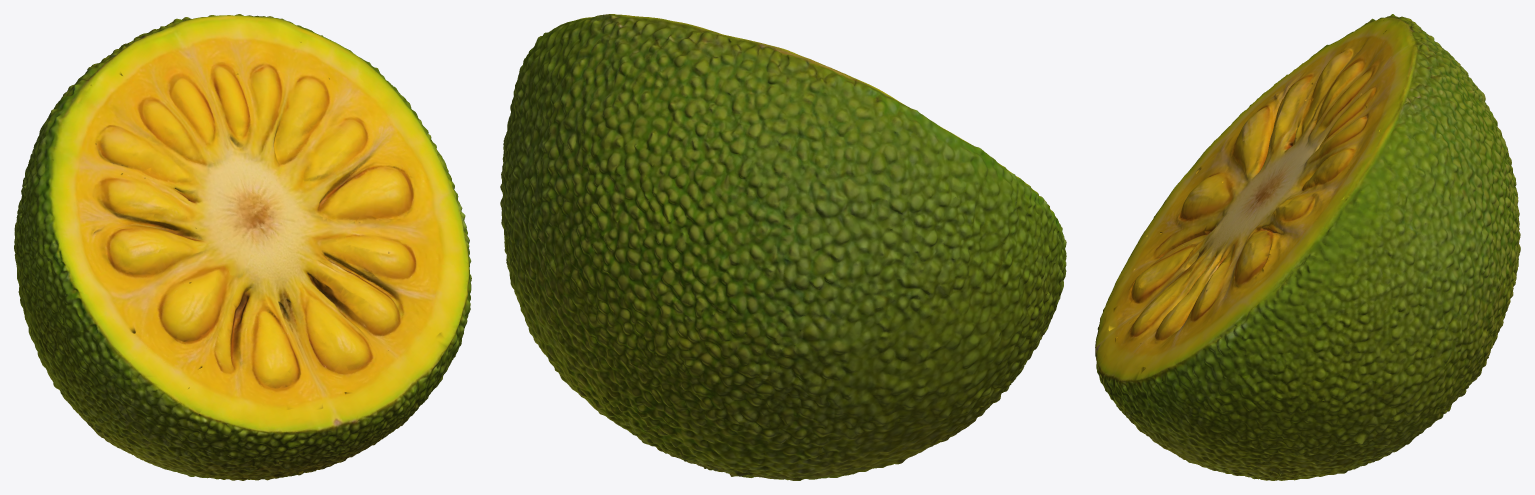
The model's file is jackfruit.glb.
3 renders of one model, left to right at view 1: azimuth 30°, elevation 25°; view 2: azimuth 150°, elevation 25°; view 3: azimuth 270°, elevation 25°, orthographic. The views are drawn at different scales.
Bounding box in the file's own units: 1.99 × 1.83 × 1.73.
Materials: 1 (1 with a texture image).
